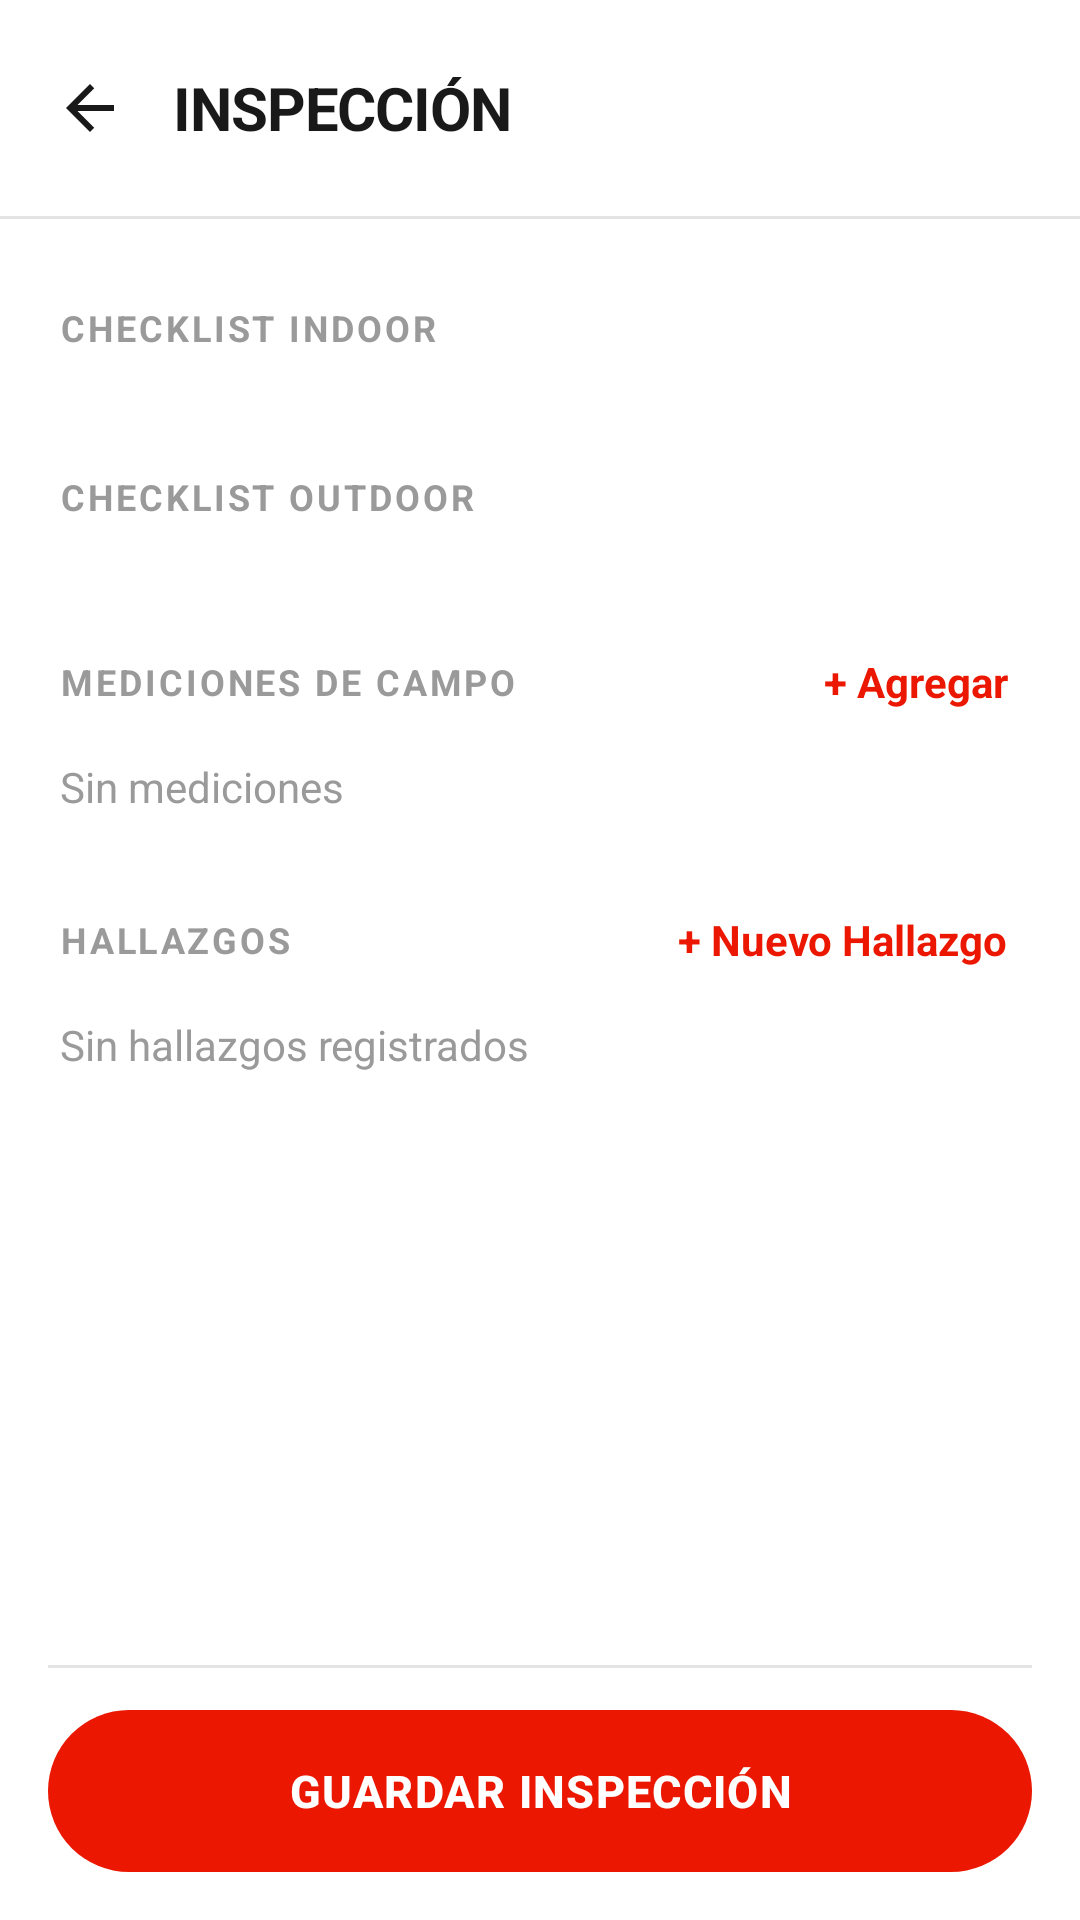

Where to tap for icons on this 1080w x 1920h app screen, as [x,y]:
Atrás: [90,108]
